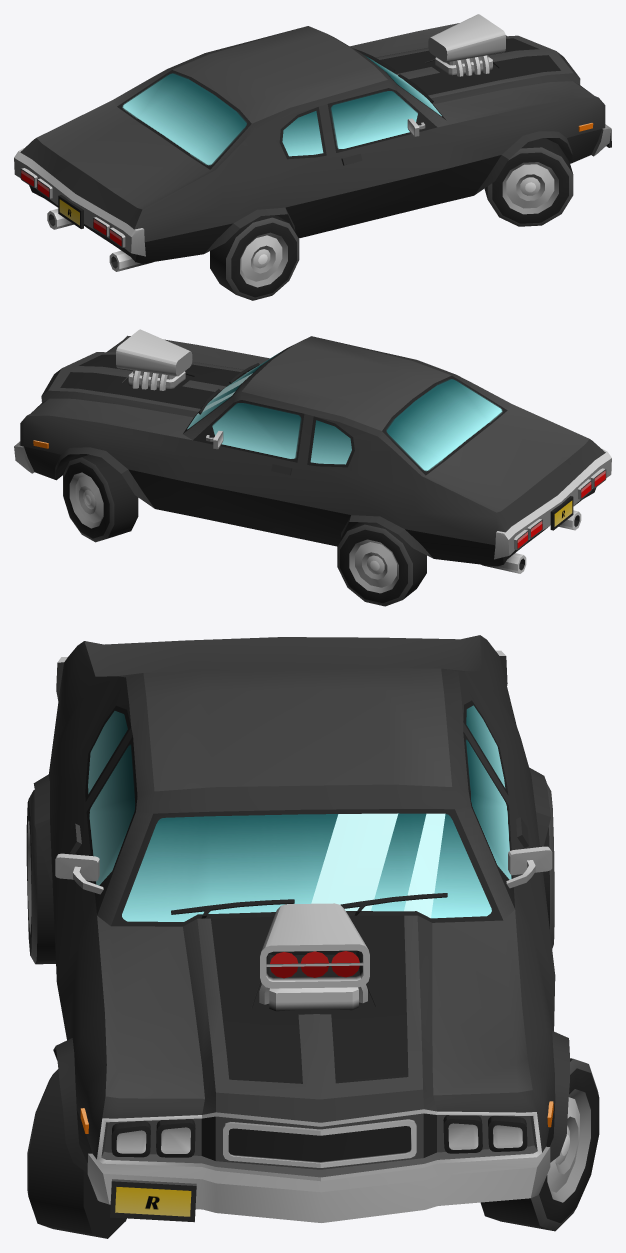
File: Car_060.glb
3 views of the same model, one above another, from view 1: azimuth 30°, elevation 25°; view 2: azimuth 150°, elevation 25°; view 3: azimuth 270°, elevation 25° (orthographic). The views are drawn at different scales.
Parts seen in each view (by area): view 1: Car_060, wheel_0_Car_060_Wheel_1R, wheel_2_Car_060_Wheel_3R; view 2: Car_060, wheel_3_Car_060_Wheel_4L, wheel_1_Car_060_Wheel_2L; view 3: Car_060, wheel_0_Car_060_Wheel_1R, wheel_1_Car_060_Wheel_2L, wheel_2_Car_060_Wheel_3R, wheel_3_Car_060_Wheel_4L.
Part boxes in pixels (x1,y1,x2,y2): Car_060: [14, 14, 611, 271]; wheel_0_Car_060_Wheel_1R: [484, 138, 573, 226]; wheel_2_Car_060_Wheel_3R: [210, 215, 299, 300]; Car_060: [14, 329, 611, 573]; wheel_3_Car_060_Wheel_4L: [337, 522, 426, 606]; wheel_1_Car_060_Wheel_2L: [63, 454, 138, 542]; Car_060: [33, 635, 569, 1222]; wheel_0_Car_060_Wheel_1R: [27, 1069, 126, 1238]; wheel_1_Car_060_Wheel_2L: [480, 1058, 599, 1231]; wheel_2_Car_060_Wheel_3R: [26, 790, 55, 964]; wheel_3_Car_060_Wheel_4L: [543, 783, 554, 948].
Size of the model in its own units: 4.96 by 1.5 by 2.42.
1 material, 1 textured.
